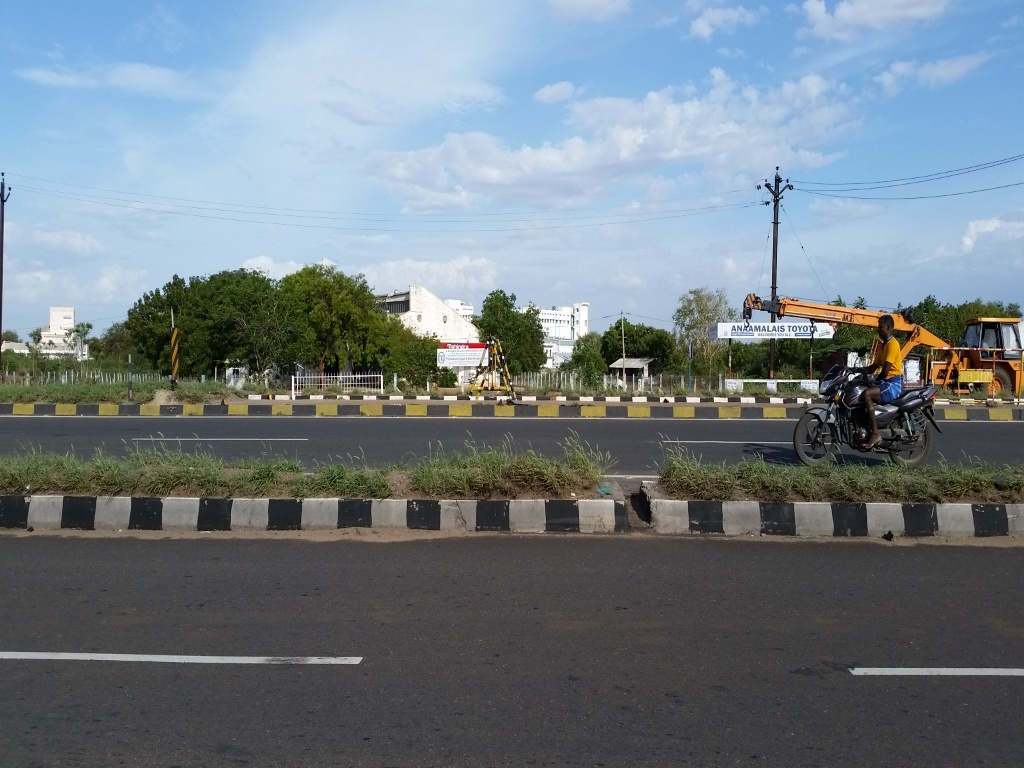biker: (766, 279, 956, 476)
nohelmet: (873, 302, 907, 352)
